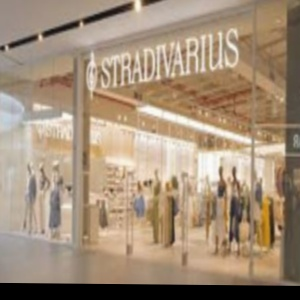stradivarius: (75, 63, 300, 73)
